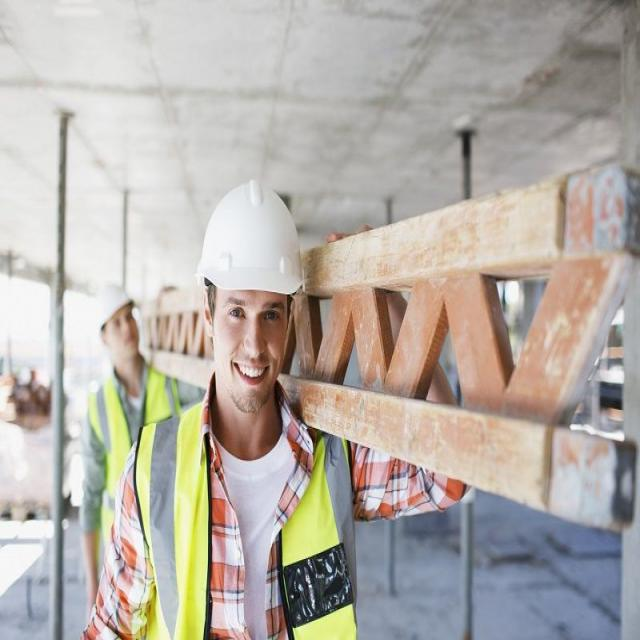Reflective-Jacket: (133, 406, 359, 640), (86, 367, 178, 542)
Safety-Helmet: (195, 173, 306, 303), (92, 276, 141, 332)
